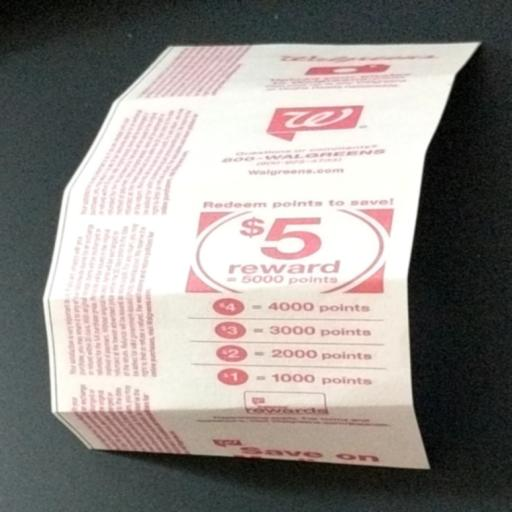paper: (30, 5, 512, 512)
